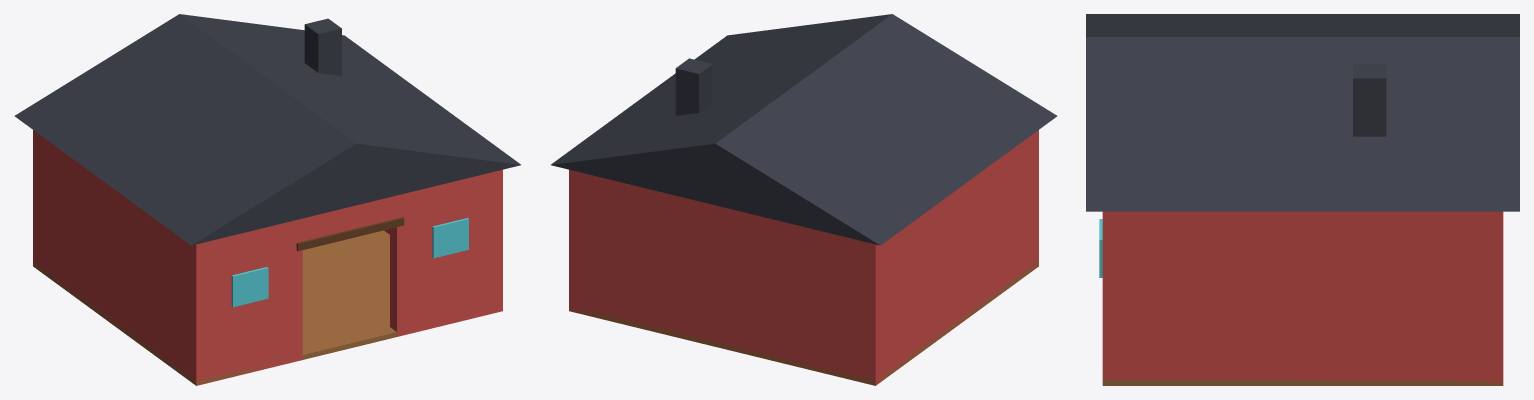
File: mdl_casa_z2.fbx
3 renders of one model, left to right at view 1: azimuth 30°, elevation 25°; view 2: azimuth 150°, elevation 25°; view 3: azimuth 270°, elevation 25°, orthographic. The views are drawn at different scales.
Visible parts, largest first — view 1: mdl_casa_z2; view 2: mdl_casa_z2; view 3: mdl_casa_z2.
Part boxes in pixels (x1,y1,x2,y2): mdl_casa_z2: (14,14,520,385); mdl_casa_z2: (551,14,1057,385); mdl_casa_z2: (1086,14,1519,385).
Size of the model in its own units: 2800 by 1800 by 2600.
